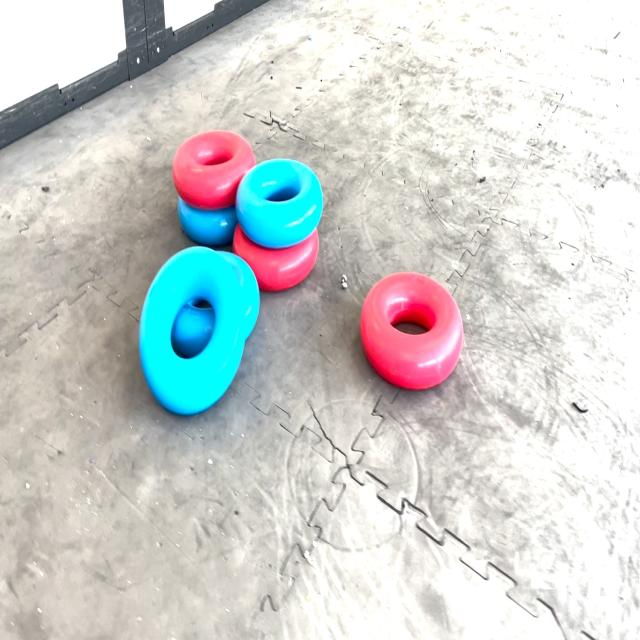Blue-Ring: (139, 247, 245, 414), (235, 158, 322, 249), (218, 251, 260, 340), (178, 197, 238, 247)
Red-Ring: (360, 273, 464, 389), (172, 131, 255, 209), (232, 224, 319, 291)
